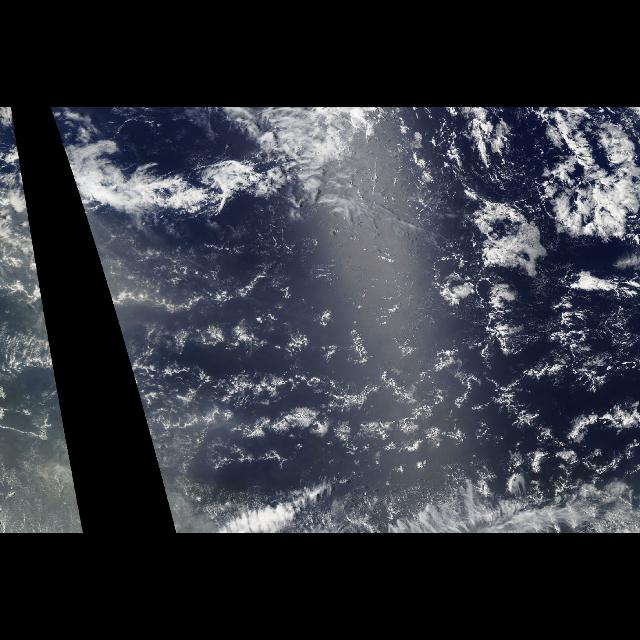Fish: (61, 151, 277, 243), (18, 151, 34, 243)
